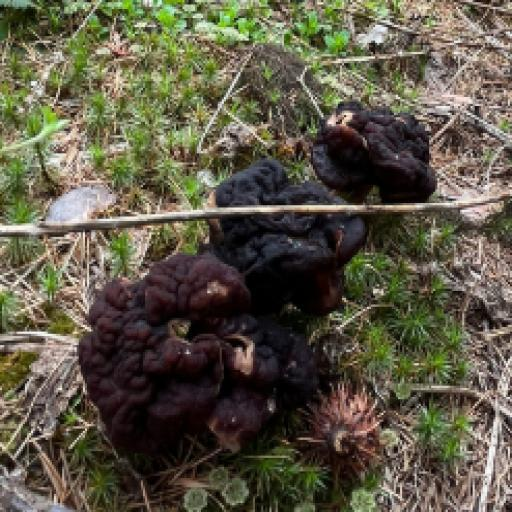mushroom: (66, 241, 334, 462), (201, 82, 445, 234)
